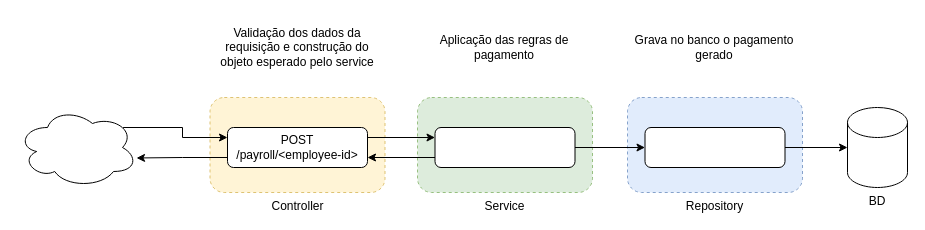
This 925x230 diagram has some shape labels left out. The shapes that lost their labels are listed below. From the top down, each one's centre as x and y in pixels, then its label:
At (77,147): "web".
At (504,147): "PayrollService".
At (714,147): "PayrollRepository".
